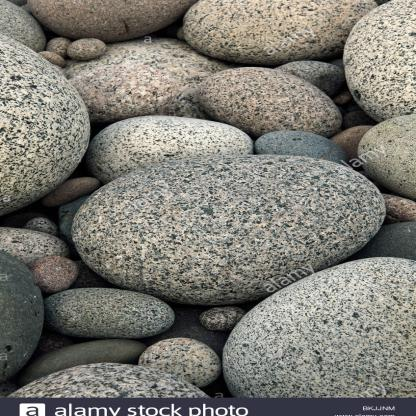Igneous_Granite: (69, 150, 403, 301), (212, 245, 416, 399), (337, 1, 416, 126)
